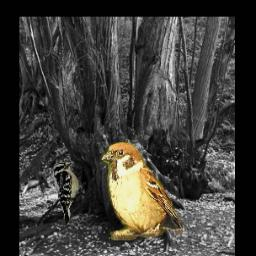Sparrow: (100, 140, 184, 240)
Woodpecker: (52, 161, 86, 227)
